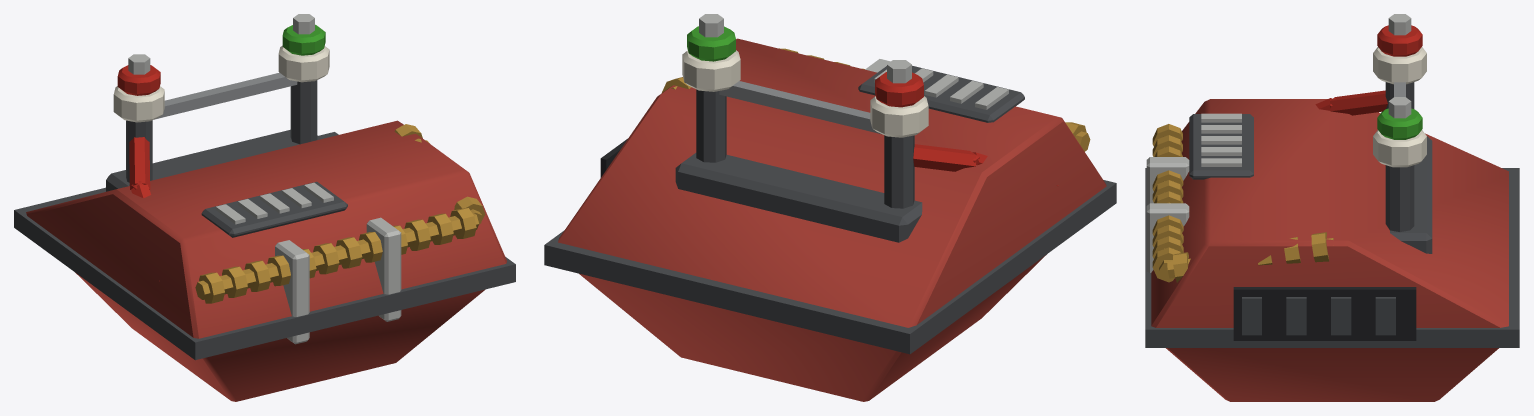
File: constant-combinator.glb
The picture shows the model from 3 angles, left to right: view 1: azimuth 30°, elevation 25°; view 2: azimuth 150°, elevation 25°; view 3: azimuth 270°, elevation 25°; orthographic projection. The views are drawn at different scales.
Parts seen in each view (by area): view 1: body; view 2: body; view 3: body.
Boxes of the visible parts, left/top/right/bottom form: body: left=14, top=14, right=515, bottom=401; body: left=544, top=14, right=1116, bottom=401; body: left=1145, top=14, right=1519, bottom=401.
Size of the model in its own units: 0.956 by 0.81 by 0.923.
